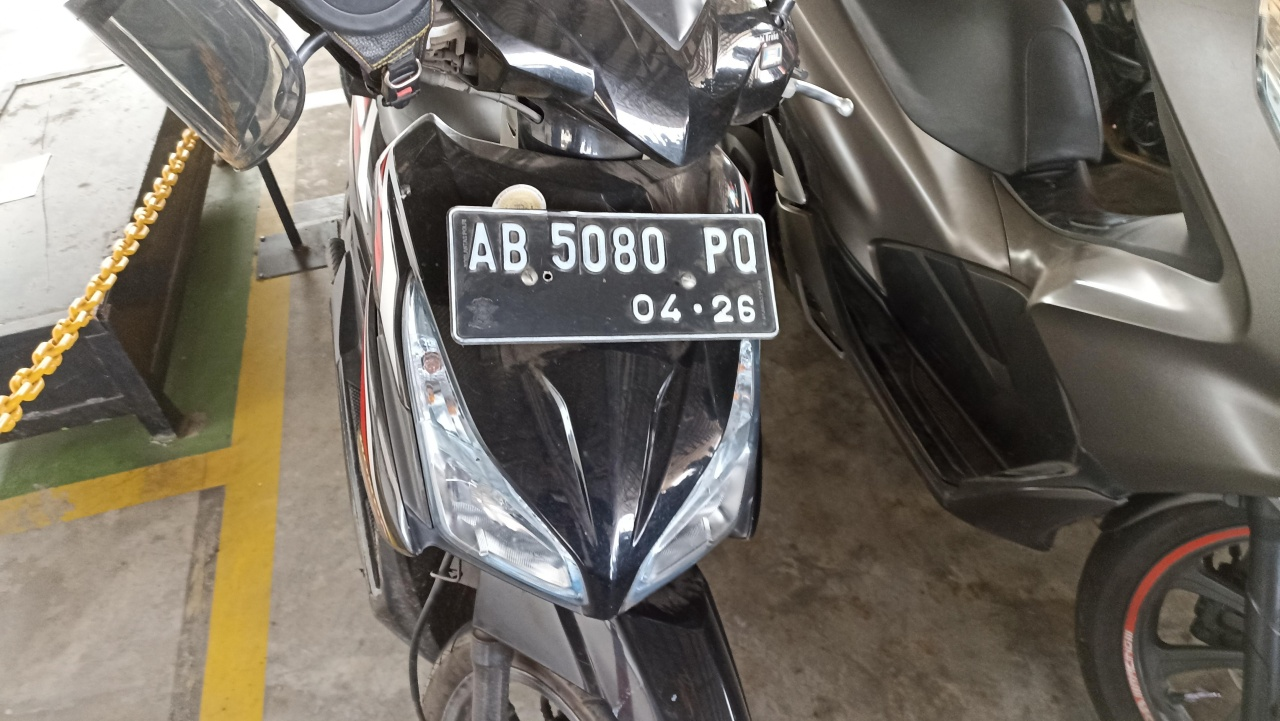plate: (449, 212, 781, 345)
